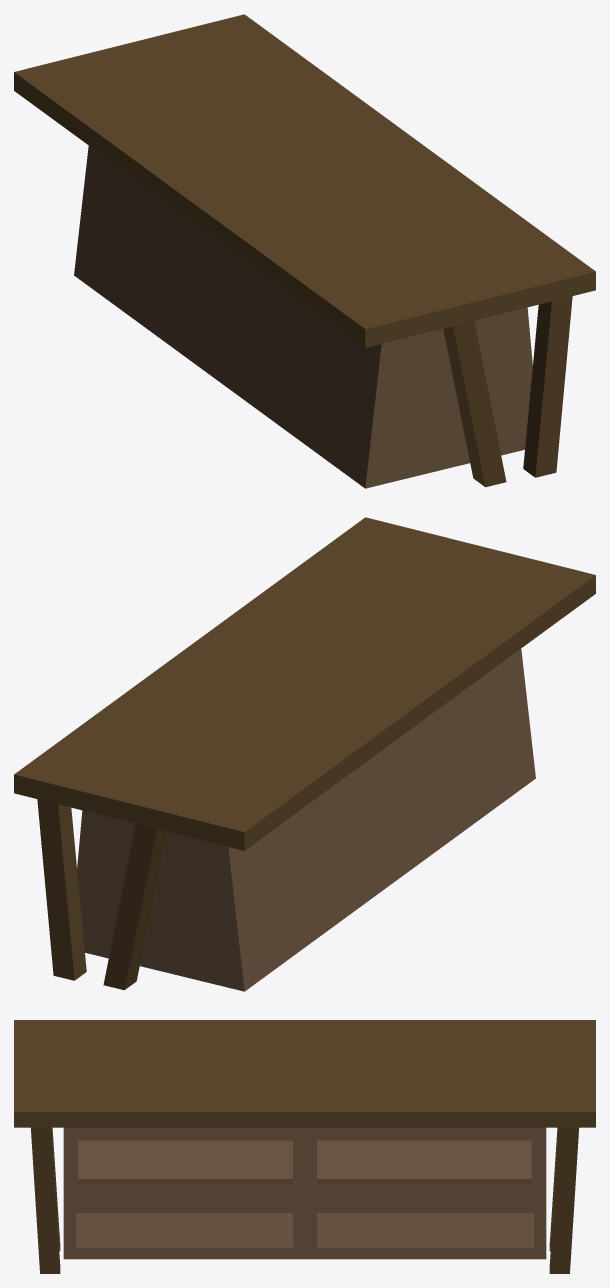
Rendered from stallroofless.fbx.
The picture shows the model from 3 angles, top to bottom: view 1: azimuth 30°, elevation 25°; view 2: azimuth 150°, elevation 25°; view 3: azimuth 270°, elevation 25°; orthographic projection. The views are drawn at different scales.
Parts seen in each view (by area): view 1: stallroofless; view 2: stallroofless; view 3: stallroofless.
Boxes of the visible parts, <box> form: stallroofless: <box>14,14,595,488</box>; stallroofless: <box>14,517,595,991</box>; stallroofless: <box>14,1020,595,1273</box>.
Size of the model in its own units: 276 by 237 by 728.
